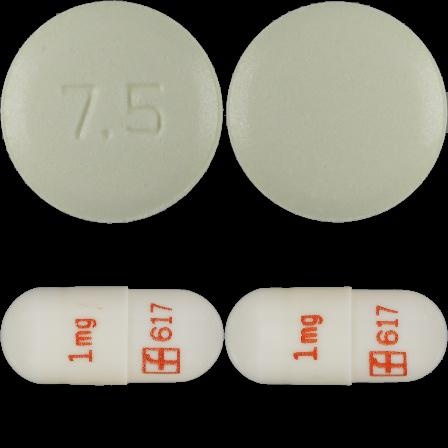55154-8375: (0, 0, 224, 224)
